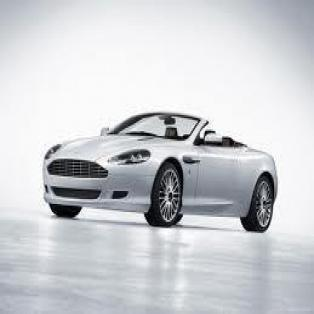Auto: (40, 109, 280, 233)
